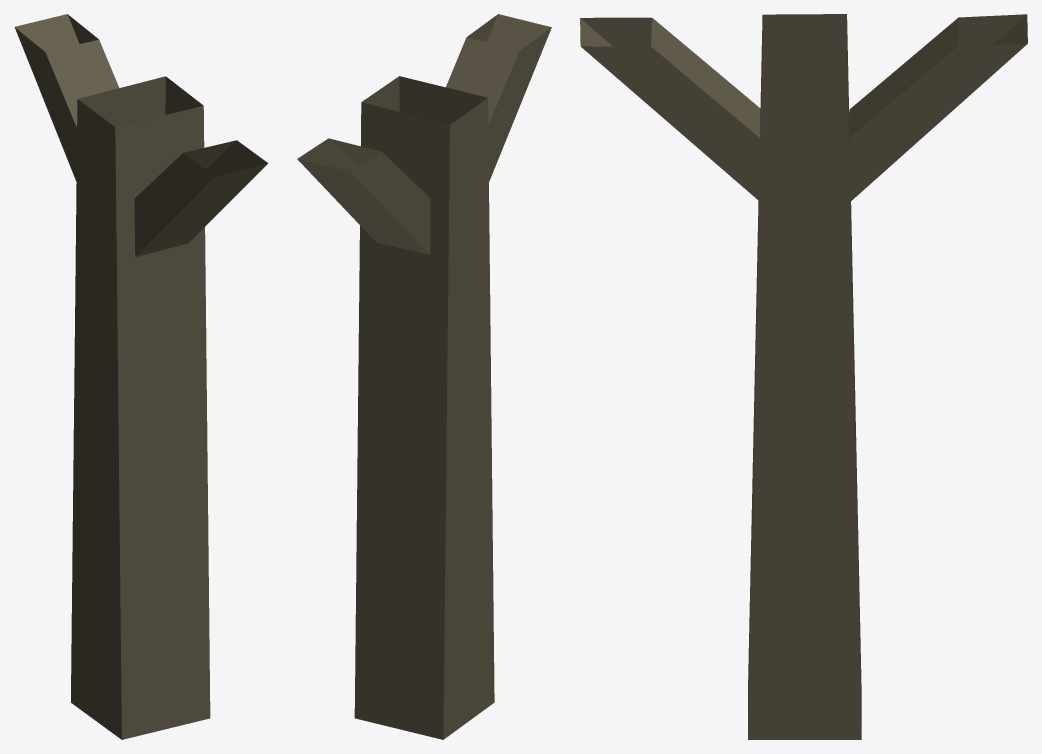
The model's file is MineBeam04.fbx.
The picture shows the model from 3 angles, left to right: view 1: azimuth 30°, elevation 25°; view 2: azimuth 150°, elevation 25°; view 3: azimuth 270°, elevation 25°; orthographic projection. The views are drawn at different scales.
Parts seen in each view (by area): view 1: MineBeam04; view 2: MineBeam04; view 3: MineBeam04.
Part boxes in pixels (<box>): MineBeam04: <box>14,14,268,739</box>; MineBeam04: <box>297,14,551,739</box>; MineBeam04: <box>580,14,1027,739</box>.
Size of the model in its own units: 199 by 336 by 50.42.
